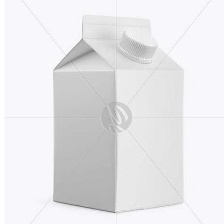carton: (40, 10, 191, 217)
